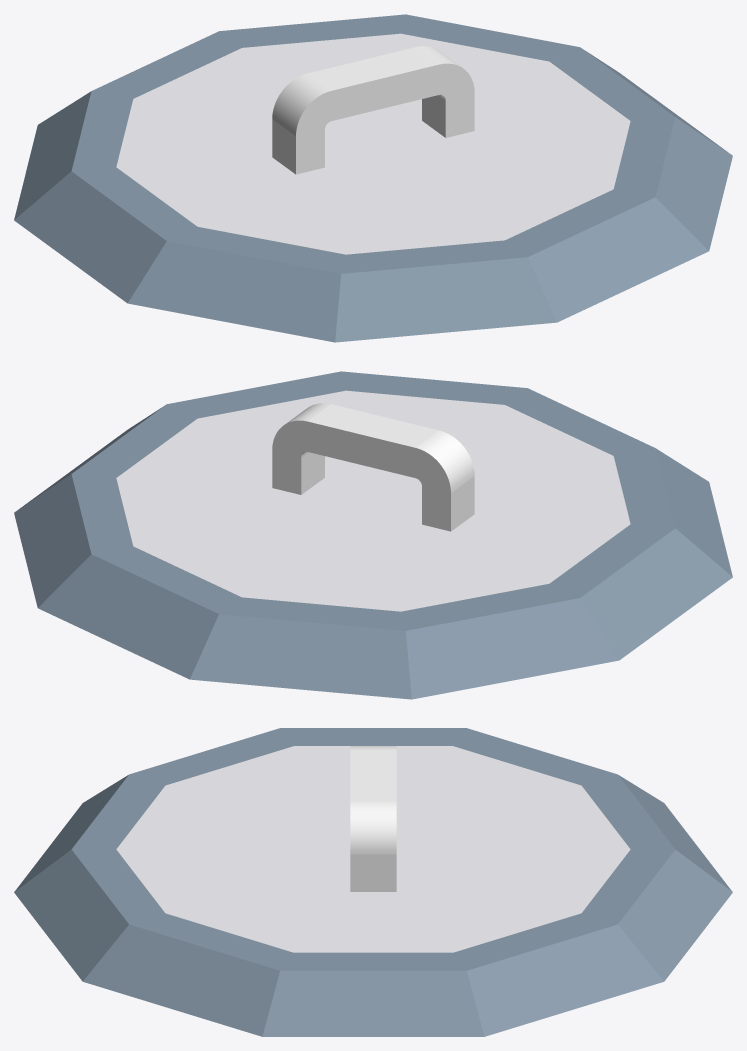
Rendered from fryingPanLid.obj.
The picture shows the model from 3 angles, top to bottom: view 1: azimuth 30°, elevation 25°; view 2: azimuth 150°, elevation 25°; view 3: azimuth 270°, elevation 25°; orthographic projection. The views are drawn at different scales.
Visible parts, largest first — view 1: fryingPanLid; view 2: fryingPanLid; view 3: fryingPanLid.
Part boxes in pixels (left/top/right/bottom): fryingPanLid: left=14, top=14, right=732, bottom=342; fryingPanLid: left=14, top=371, right=732, bottom=699; fryingPanLid: left=14, top=728, right=732, bottom=1036.
Bounding box in the file's own units: 0.5767 × 0.1084 × 0.6064.
